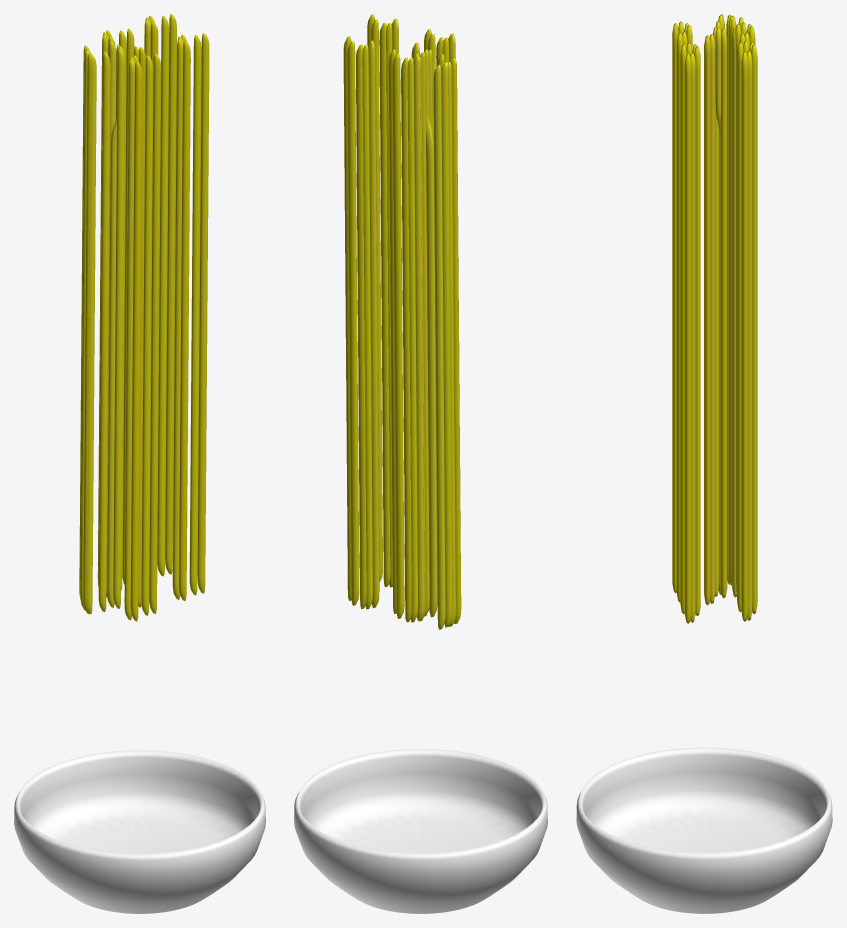
File: MANGKOKDANMIE.glb
3 renders of one model, left to right at view 1: azimuth 30°, elevation 25°; view 2: azimuth 150°, elevation 25°; view 3: azimuth 270°, elevation 25°, orthographic.
Parts seen in each view (by area): view 1: Circle, Plane.013, Plane.020, Plane.026, Plane.030, Plane.019, Plane.024, Plane.036, Plane.011, Plane.025, Plane.032, Plane.023 (+11 smaller); view 2: Circle, Plane.001, Plane.009, Plane.032, Plane.015, Plane.027, Plane.004, Plane.033, Plane.035, Plane.006, Plane.005, Plane.034 (+10 smaller); view 3: Circle, Plane.030, Plane.036, Plane.012, Plane.014, Plane.027, Plane.033, Plane.024, Plane.019, Plane.025, Plane.031, Plane.018 (+9 smaller).
Part boxes in pixels (x1=…): Circle: x1=14, y1=750, x2=265, y2=913; Plane.013: x1=98, y1=51, x2=110, y2=612; Plane.020: x1=141, y1=55, x2=153, y2=615; Plane.026: x1=189, y1=35, x2=201, y2=595; Plane.030: x1=197, y1=33, x2=209, y2=593; Plane.019: x1=130, y1=61, x2=142, y2=621; Plane.024: x1=149, y1=53, x2=161, y2=613; Plane.036: x1=165, y1=14, x2=176, y2=574; Plane.011: x1=113, y1=48, x2=125, y2=608; Plane.025: x1=179, y1=40, x2=190, y2=600; Plane.032: x1=157, y1=16, x2=169, y2=576; Plane.023: x1=124, y1=60, x2=134, y2=620; Circle: x1=294, y1=749, x2=547, y2=913; Plane.001: x1=392, y1=54, x2=404, y2=618; Plane.009: x1=433, y1=65, x2=445, y2=629; Plane.032: x1=347, y1=41, x2=359, y2=605; Plane.015: x1=424, y1=49, x2=437, y2=617; Plane.027: x1=379, y1=22, x2=390, y2=587; Plane.004: x1=401, y1=57, x2=411, y2=622; Plane.033: x1=356, y1=44, x2=366, y2=609; Plane.035: x1=368, y1=43, x2=379, y2=608; Plane.006: x1=413, y1=56, x2=424, y2=621; Plane.005: x1=407, y1=57, x2=418, y2=622; Plane.034: x1=362, y1=44, x2=372, y2=609; Circle: x1=576, y1=747, x2=832, y2=913; Plane.030: x1=684, y1=54, x2=691, y2=623; Plane.036: x1=741, y1=52, x2=748, y2=621; Plane.012: x1=720, y1=28, x2=727, y2=598; Plane.014: x1=704, y1=35, x2=710, y2=605; Plane.027: x1=694, y1=46, x2=700, y2=616; Plane.033: x1=751, y1=44, x2=757, y2=614; Plane.024: x1=676, y1=32, x2=683, y2=602; Plane.019: x1=672, y1=23, x2=678, y2=593; Plane.025: x1=680, y1=44, x2=686, y2=614; Plane.031: x1=737, y1=42, x2=743, y2=612; Plane.018: x1=709, y1=34, x2=715, y2=603.
Bounding box in the file's own units: 3.36 × 12.38 × 3.36.
